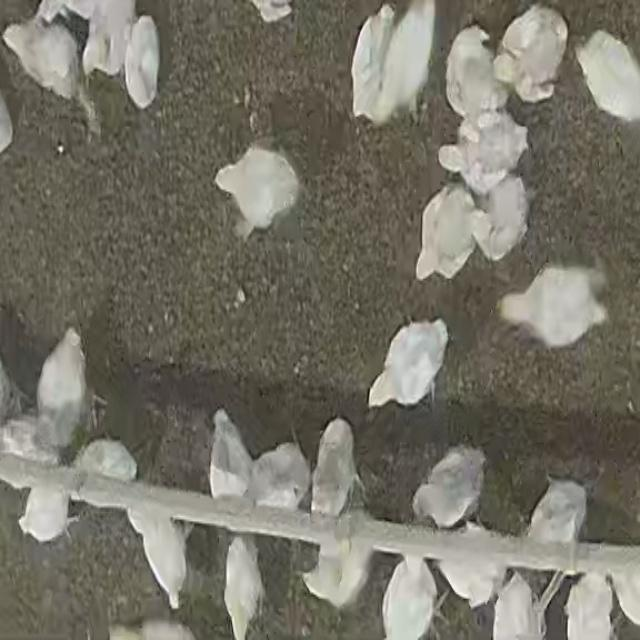chicken: (499, 265, 607, 351), (366, 316, 453, 412), (210, 146, 302, 233), (439, 108, 525, 199), (34, 327, 90, 452), (498, 6, 569, 103), (4, 16, 82, 104), (128, 506, 191, 612), (413, 444, 487, 528), (574, 31, 639, 122), (418, 181, 478, 278), (299, 536, 376, 610), (433, 530, 505, 609), (443, 26, 502, 122), (309, 418, 361, 522), (526, 476, 587, 559), (380, 558, 438, 640), (222, 533, 266, 640), (475, 180, 533, 256), (208, 408, 252, 506), (247, 444, 310, 512), (82, 2, 131, 76), (18, 484, 73, 545), (124, 16, 160, 106), (566, 572, 613, 639), (76, 437, 139, 484)
